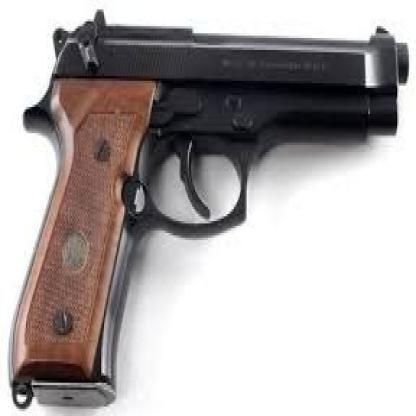Pistol: (19, 0, 409, 411)
